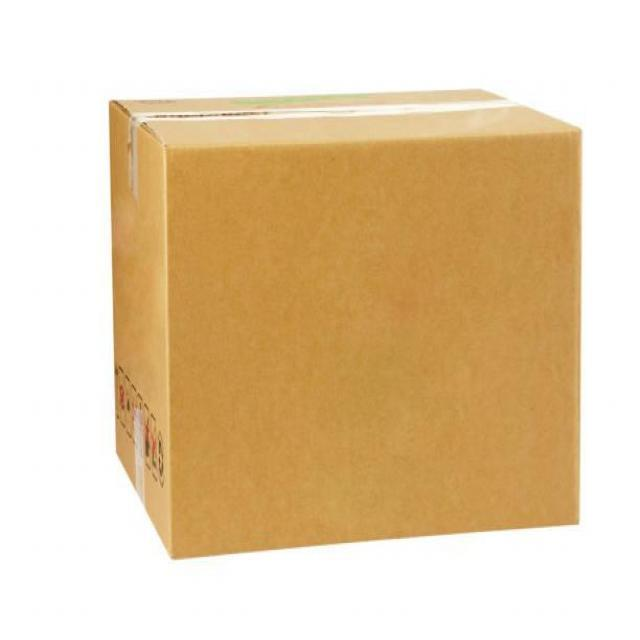box: (102, 75, 585, 568)
